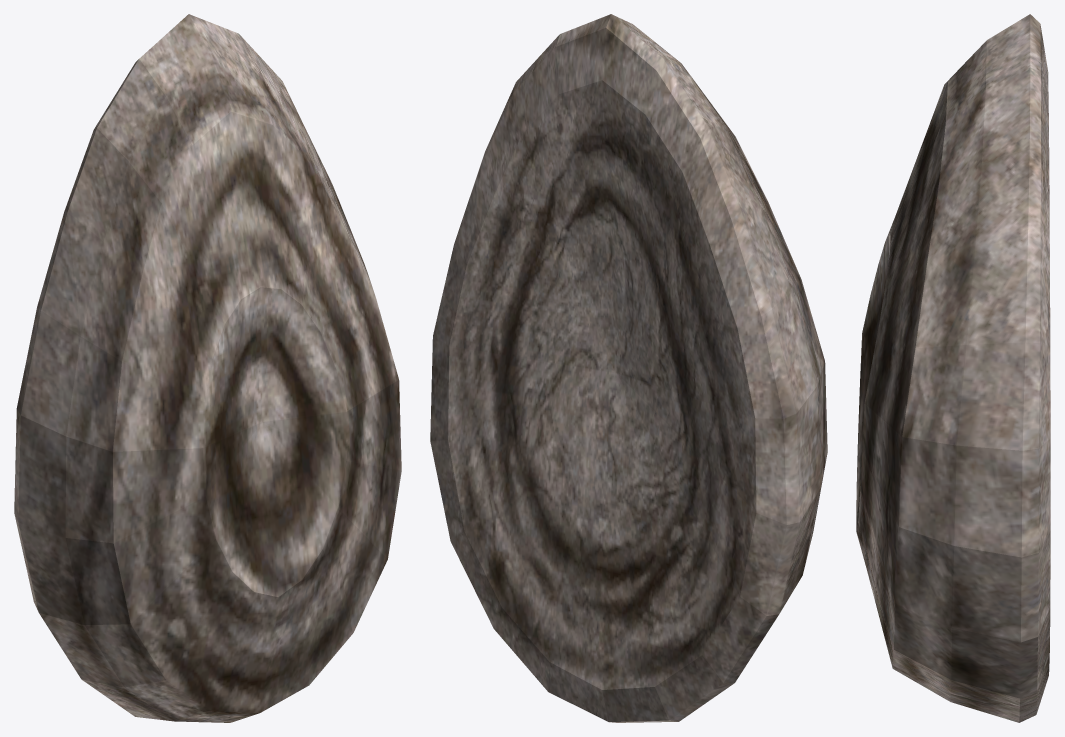
Rendered from thm_dath_mtn_clan_pillar_s01_l0.fbx.
3 renders of one model, left to right at view 1: azimuth 30°, elevation 25°; view 2: azimuth 150°, elevation 25°; view 3: azimuth 270°, elevation 25°, orthographic. The views are drawn at different scales.
Parts seen in each view (by area): view 1: mesh_node; view 2: mesh_node; view 3: mesh_node.
Boxes of the visible parts, x1,y1,x2,y2 form: mesh_node: (14, 14, 401, 722); mesh_node: (430, 14, 827, 722); mesh_node: (856, 14, 1050, 722).
Bounding box in the file's own units: 6.2 × 11.63 × 2.95.
2 materials, 2 textured.
